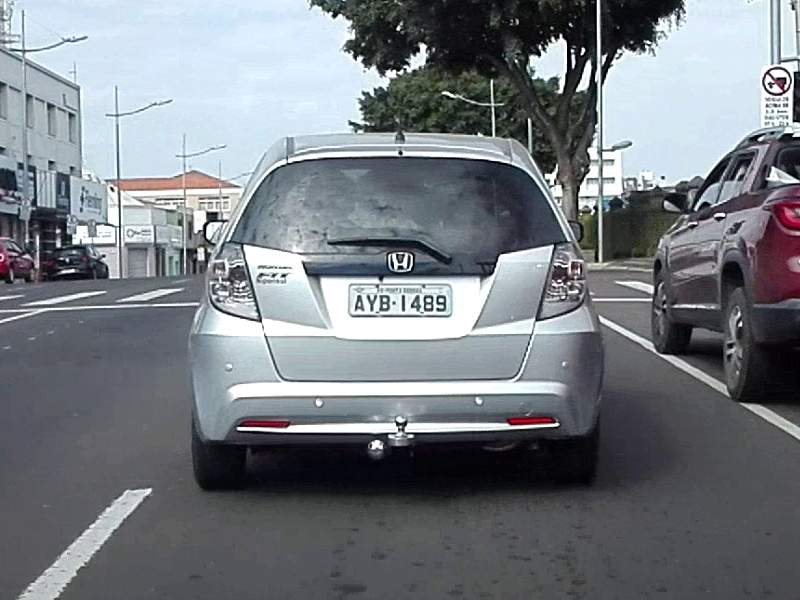placa: (348, 283, 453, 317)
